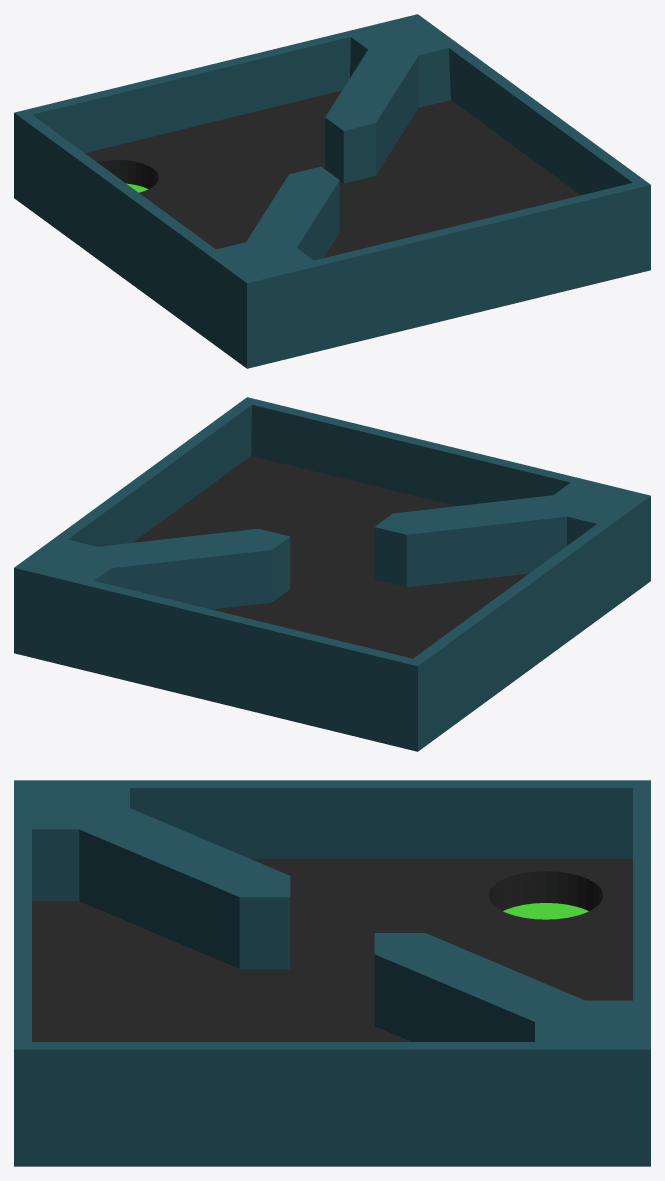
File: maze_big_hole_big_wall.fbx
3 views of the same model, one above another, from view 1: azimuth 30°, elevation 25°; view 2: azimuth 150°, elevation 25°; view 3: azimuth 270°, elevation 25° (orthographic). The views are drawn at different scales.
Visible parts, largest first — view 1: maze_hole.001; view 2: maze_hole.001; view 3: maze_hole.001.
Part boxes in pixels (x1=…): maze_hole.001: x1=14, y1=14, x2=650, y2=368; maze_hole.001: x1=14, y1=397, x2=650, y2=751; maze_hole.001: x1=14, y1=780, x2=650, y2=1166.
Bounding box in the file's own units: 50 × 10.12 × 50.
